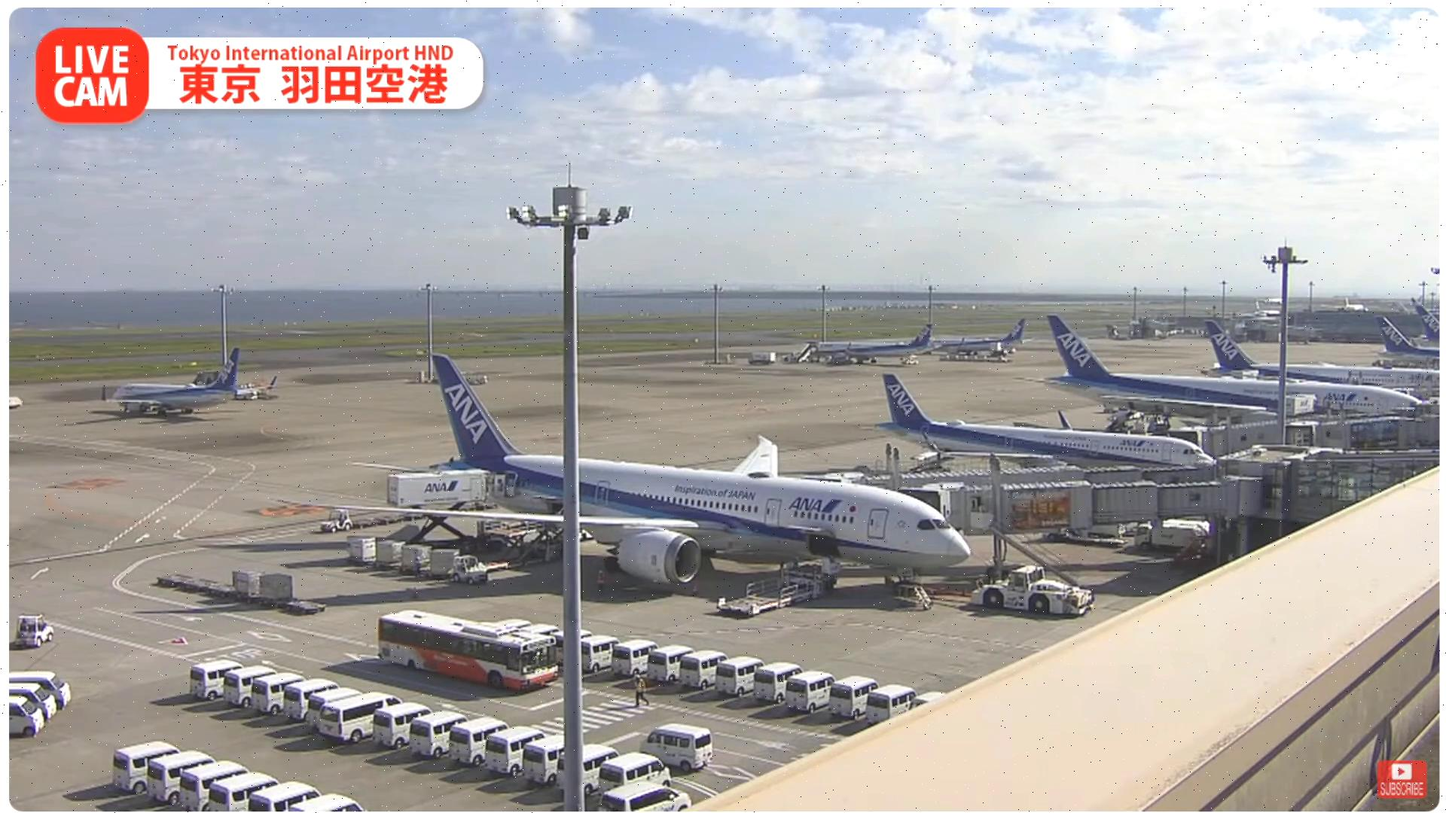APS: (969, 564, 1106, 619)
Aerobridge: (899, 476, 1264, 540), (843, 457, 1217, 496)
Airplane: (330, 354, 973, 599)
Catering: (387, 467, 515, 558)
Dolly: (157, 564, 332, 616), (340, 534, 453, 583), (352, 510, 428, 529)
JCPL: (714, 553, 842, 618), (481, 516, 567, 568)
Tractor: (452, 551, 489, 584), (321, 503, 354, 534)
Window: (1290, 456, 1440, 523)
